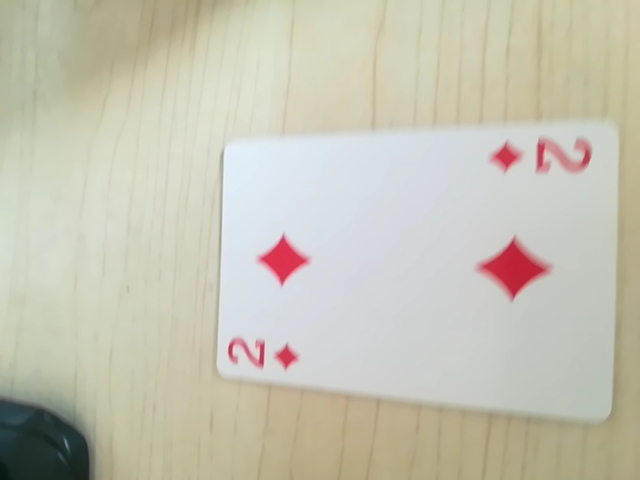fk 2: (483, 126, 599, 185), (226, 327, 308, 377)
